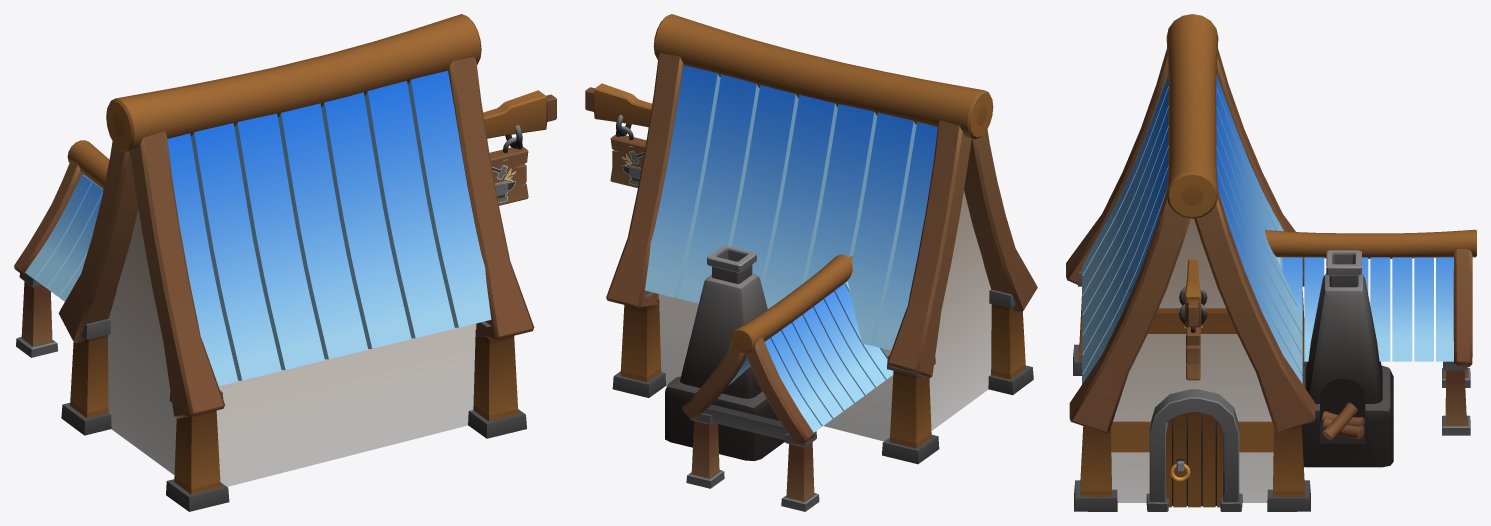
File: obj_Forge.fbx
The picture shows the model from 3 angles, left to right: view 1: azimuth 30°, elevation 25°; view 2: azimuth 150°, elevation 25°; view 3: azimuth 270°, elevation 25°; orthographic projection. The views are drawn at different scales.
Visible parts, largest first — view 1: obj_Forge; view 2: obj_Forge; view 3: obj_Forge.
Part boxes in pixels (box(x1,y1,x2,y2)): obj_Forge: box(14, 14, 556, 511); obj_Forge: box(585, 14, 1037, 511); obj_Forge: box(1066, 14, 1476, 511).
Bounding box in the file's own units: 568 × 456 × 496.
